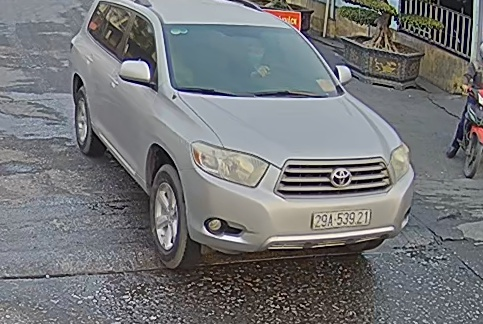vehicle plate: (310, 206, 371, 235)
